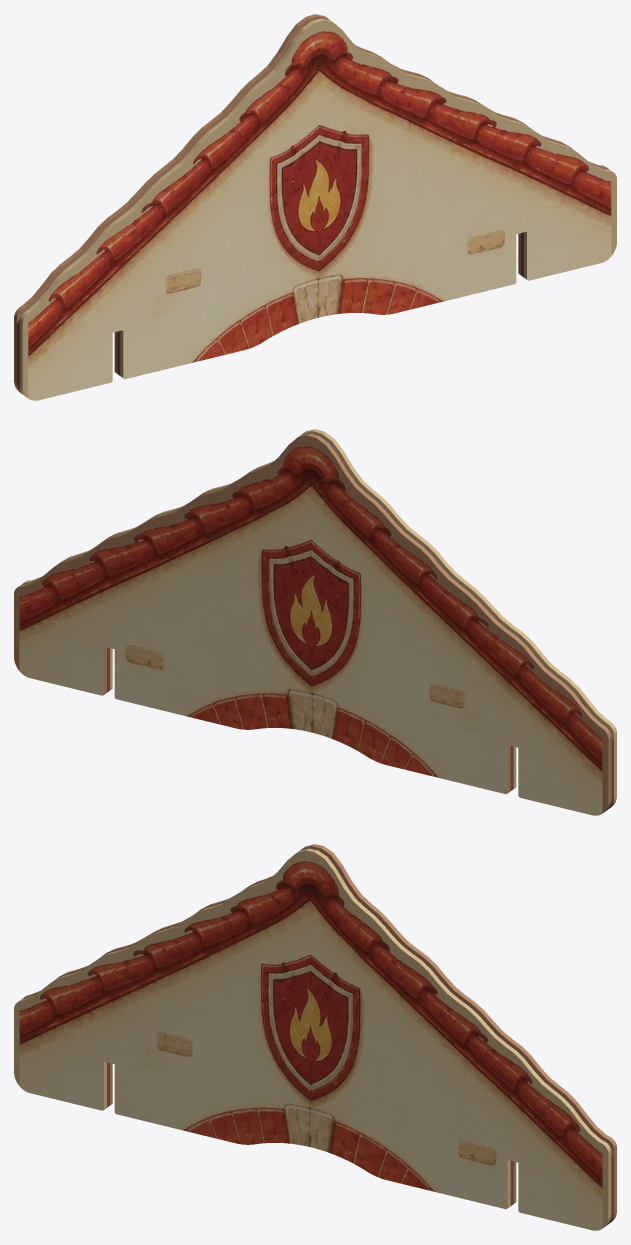
The model's file is door-panel-top-subpanel.glb.
The picture shows the model from 3 angles, top to bottom: view 1: azimuth 30°, elevation 25°; view 2: azimuth 150°, elevation 25°; view 3: azimuth 330°, elevation 25°; orthographic projection.
Visible parts, largest first — view 1: door-panel-top-subpanel; view 2: door-panel-top-subpanel; view 3: door-panel-top-subpanel.
Part boxes in pixels (x1,y1,x2,y2): door-panel-top-subpanel: [14, 14, 616, 400]; door-panel-top-subpanel: [14, 429, 616, 815]; door-panel-top-subpanel: [14, 844, 616, 1230].
Size of the model in its own units: 1066 by 532 by 27.
Materials: 5 (2 with a texture image).
